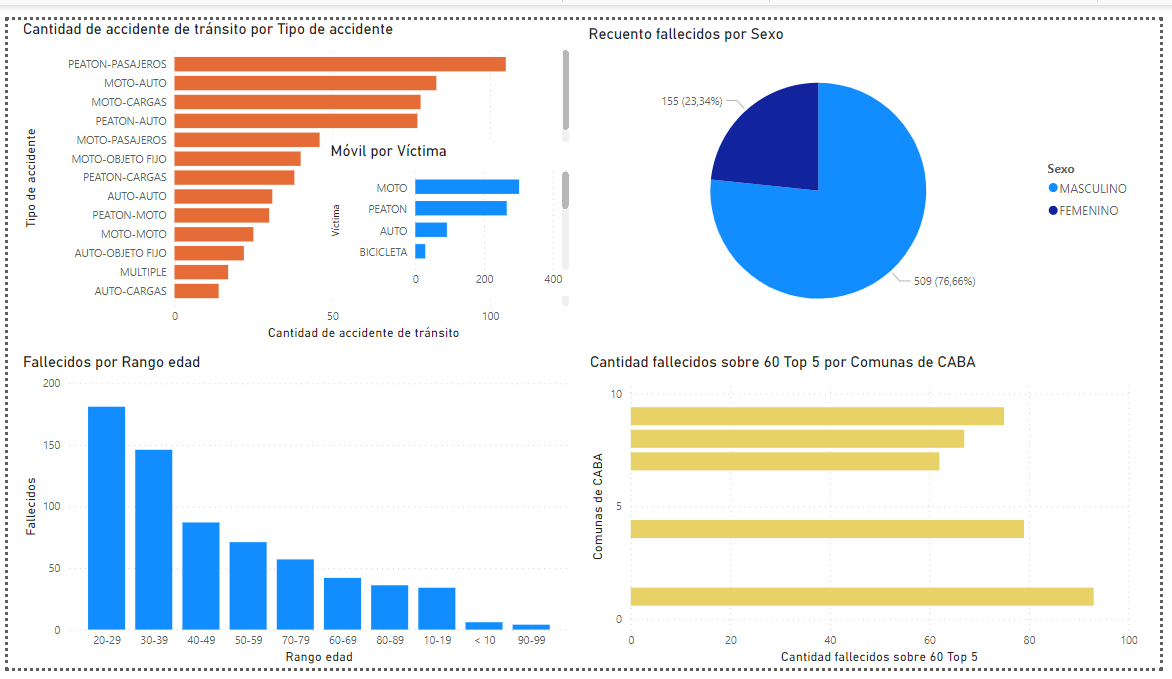

The dashboard page shown, as its layout file describes it:
{"tool":"powerbi","page":{"name":"Gráficas","canvas":[1280,720],"ordinal":1},"visuals":[{"type":"clusteredBarChart","fields":{"Category":["Accid.PARTICIPANTES"],"Y":["CountNonNull(Accid.N_VICTIMAS)"]},"box":[11.7,0,616.7,360],"z":0},{"type":"pieChart","fields":{"Y":["CountNonNull(Vict02.Sexo)"],"Category":["Vict02.Sexo"]},"box":[640.7,4.9,618.1,349.5],"z":1000},{"type":"clusteredColumnChart","fields":{"Y":["CountNonNull(Vict02.Edad)"],"Category":["Vict02.RangoNEW"]},"box":[12,370,617,350],"z":2000},{"type":"clusteredBarChart","fields":{"Category":["Accid.COMUNA"],"Y":["Sum(Accid.N_VICTIMAS)"]},"box":[641,370,618,350],"z":3000},{"type":"clusteredBarChart","fields":{"Category":["Accid.VICTIMA"],"Y":["Sum(Accid.N_VICTIMAS)"]},"box":[352.7,134.3,275.1,171.5],"z":4000},{"type":"textbox","box":[1098.6,328.4,181.2,64.7],"z":5000}]}

Visuals, with their boxes in screenshot pixels (x1, y1, x2, y2), scaled from the page's 1280x720 canvas onto the 1172x679 screenshot:
clusteredBarChart - Accid.PARTICIPANTES x CountNonNull(Accid.N_VICTIMAS): x1=11 y1=0 x2=575 y2=340
pieChart - CountNonNull(Vict02.Sexo) x Vict02.Sexo: x1=587 y1=5 x2=1153 y2=334
clusteredColumnChart - CountNonNull(Vict02.Edad) x Vict02.RangoNEW: x1=11 y1=349 x2=576 y2=678
clusteredBarChart - Accid.COMUNA x Sum(Accid.N_VICTIMAS): x1=587 y1=349 x2=1153 y2=678
clusteredBarChart - Accid.VICTIMA x Sum(Accid.N_VICTIMAS): x1=323 y1=127 x2=575 y2=288
textbox: x1=1006 y1=310 x2=1171 y2=371
